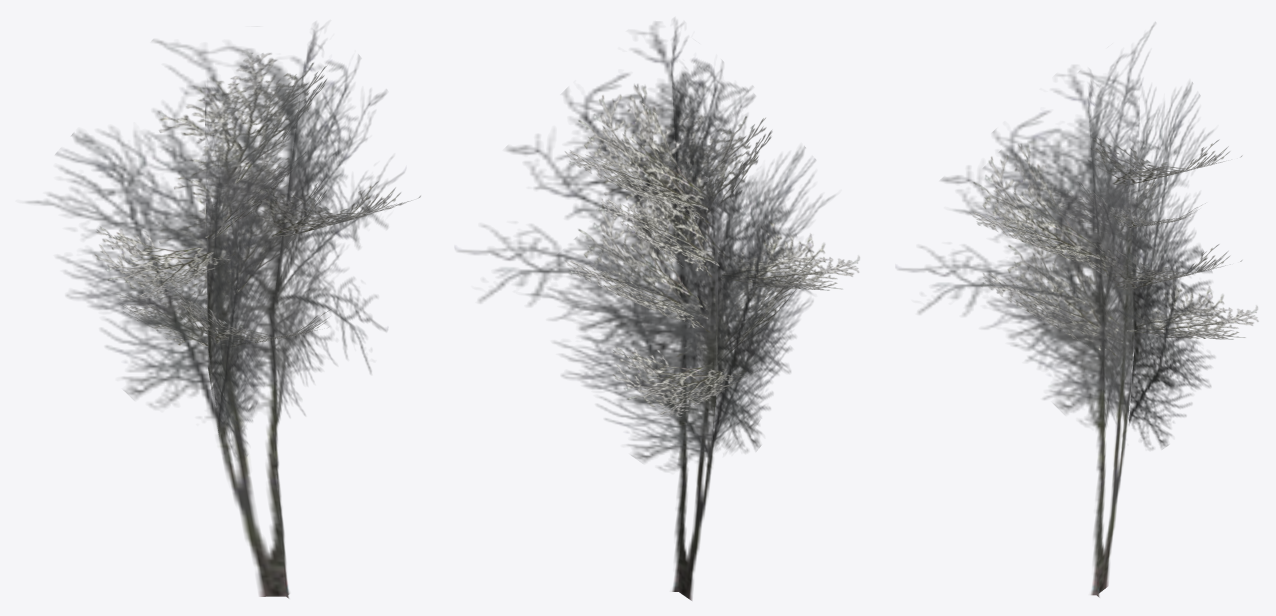
Rendered from wtree_e.glb.
3 renders of one model, left to right at view 1: azimuth 30°, elevation 25°; view 2: azimuth 150°, elevation 25°; view 3: azimuth 270°, elevation 25°, orthographic. The views are drawn at different scales.
Parts seen in each view (by area): view 1: Winter_Trees_Planes.001, Winter_Trees_Branches.010; view 2: Winter_Trees_Planes.001, Winter_Trees_Branches.010; view 3: Winter_Trees_Planes.001, Winter_Trees_Branches.010.
Part boxes in pixels (box(x1,y1,x2,y2)): Winter_Trees_Planes.001: box(26, 22, 405, 598); Winter_Trees_Branches.010: box(95, 49, 420, 346); Winter_Trees_Planes.001: box(455, 18, 835, 600); Winter_Trees_Branches.010: box(565, 84, 859, 416); Winter_Trees_Planes.001: box(896, 22, 1227, 597); Winter_Trees_Branches.010: box(969, 137, 1258, 355).
Size of the model in its own units: 8.55 by 12.13 by 7.54.
Materials: 2 (2 with a texture image).
